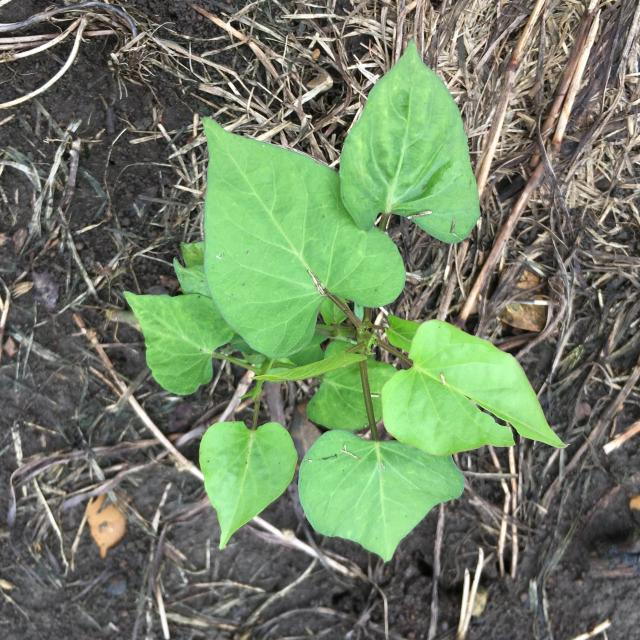MorningGlory: (122, 39, 568, 564)
